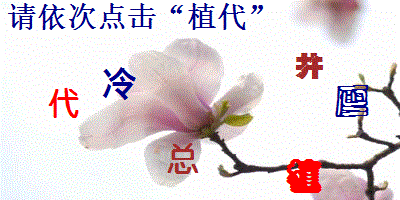text: (285, 157, 323, 195), (100, 66, 138, 101), (334, 84, 370, 118), (166, 141, 199, 176), (48, 87, 81, 120), (293, 50, 325, 82)
